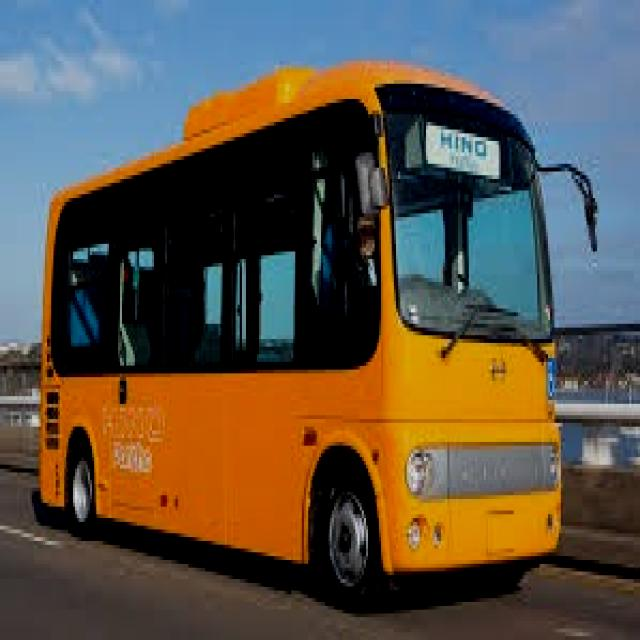bus: (33, 44, 588, 623)
